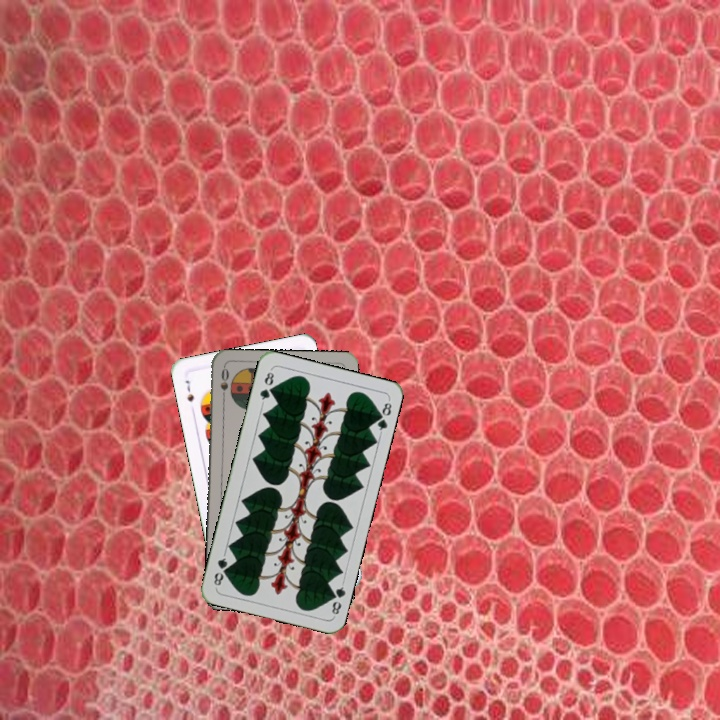G8: (325, 579, 348, 617), (256, 366, 277, 406)
S7: (181, 376, 196, 404)
SO: (216, 364, 231, 405)
